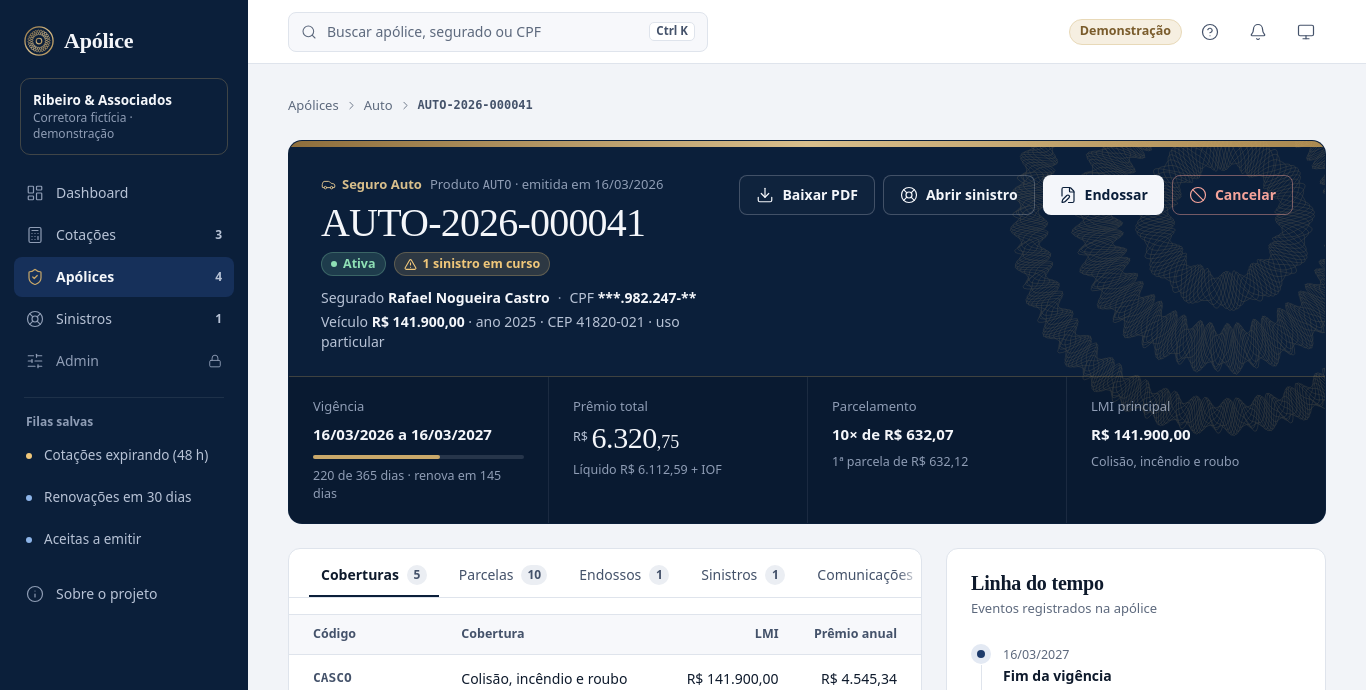
Scenario: Detalhe da apólice › deve simular a restituição pelo motivo escolhido e cancelar com confirmação
Click the button "Cancelar": (1232, 194) 1172,174 -> 1293,214
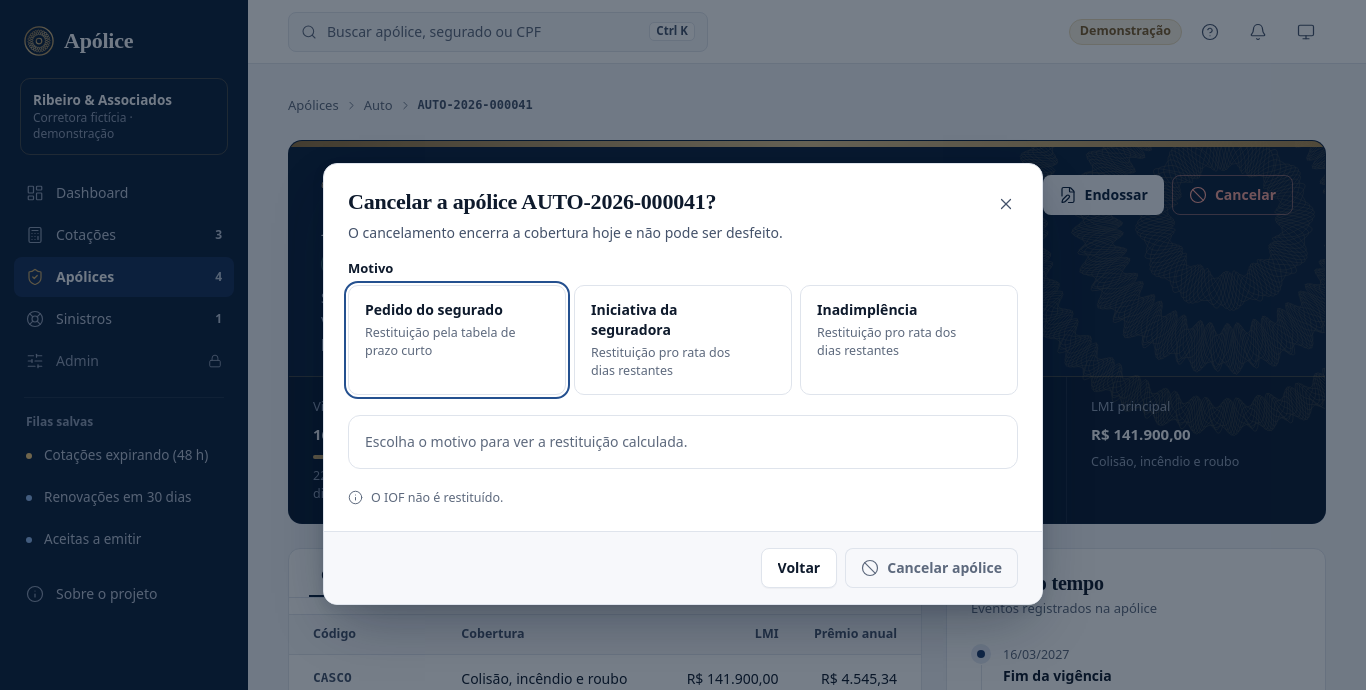
Click the radio button labelled "Pedido do segurado Restituição pela tabela de prazo curto": (457, 340) 348,285 -> 566,395
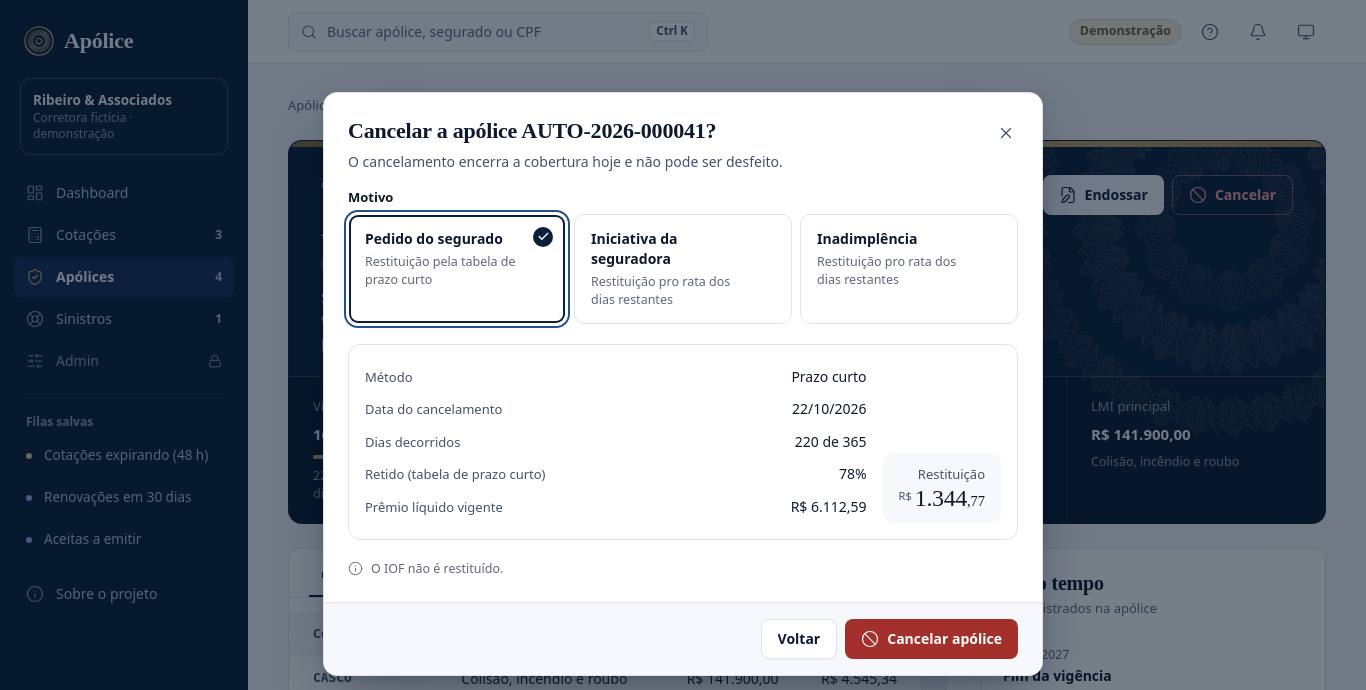
Click the button "Cancelar apólice": (932, 639) 845,619 -> 1018,659
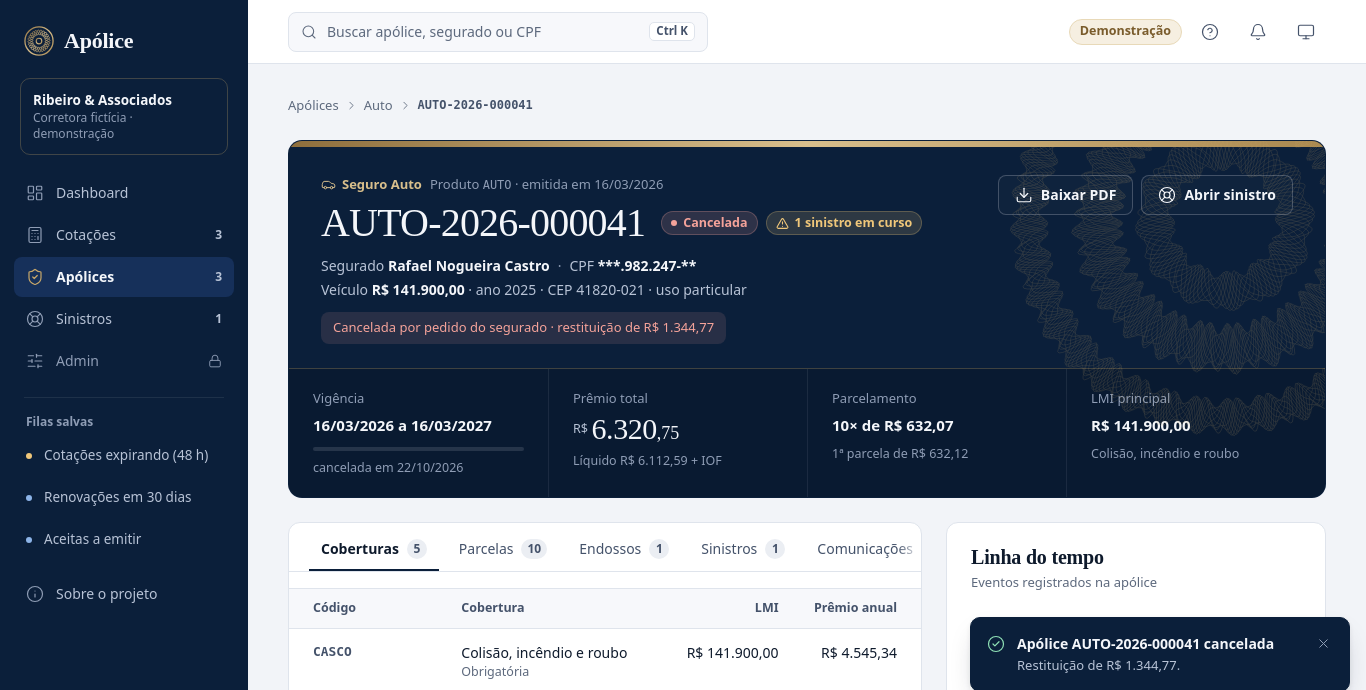
Check: the text "Cancelada por pedido do segurado" is shown, box 321,312 -> 726,344
Check: the button "Endossar" is gone
